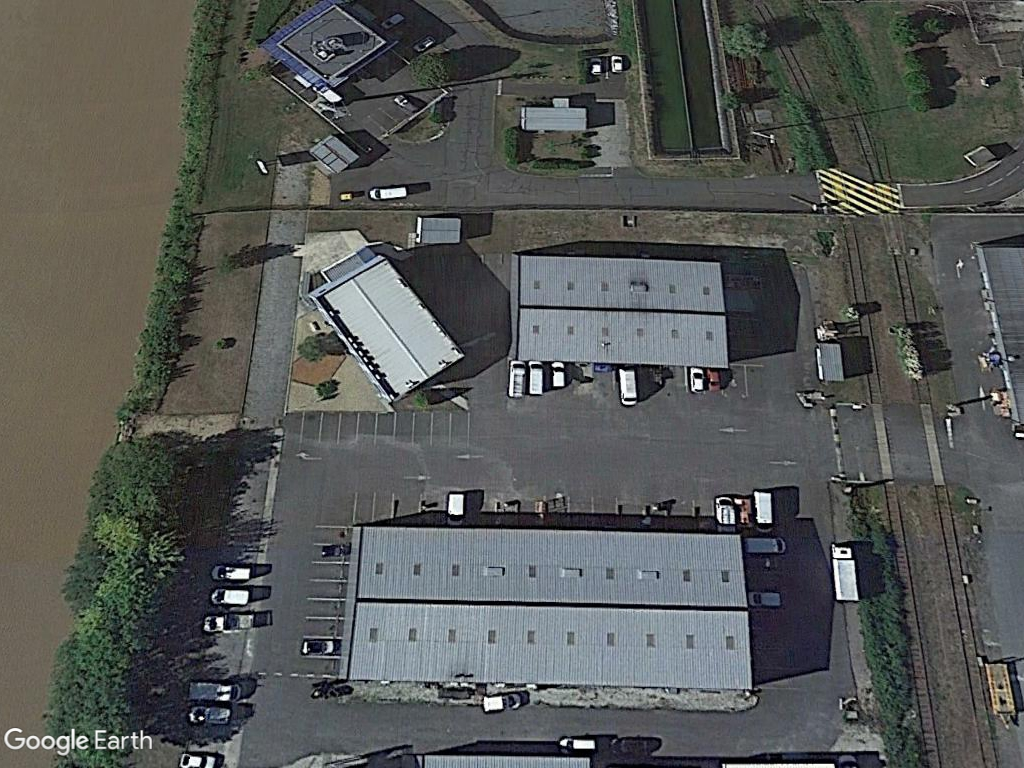truck: (828, 541, 862, 606), (508, 353, 529, 403)
van: (750, 483, 778, 539), (209, 558, 256, 585), (617, 363, 640, 411), (442, 487, 468, 529), (201, 585, 251, 606), (369, 182, 411, 202)
